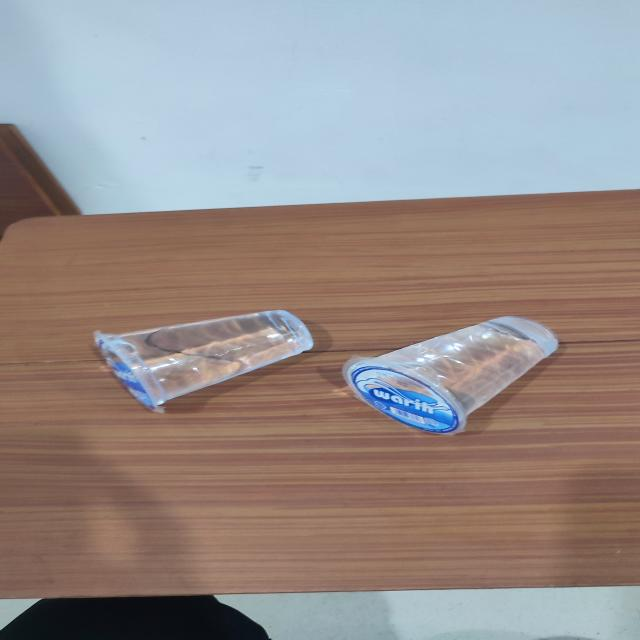air gelas: (347, 310, 578, 439), (86, 301, 328, 421)
